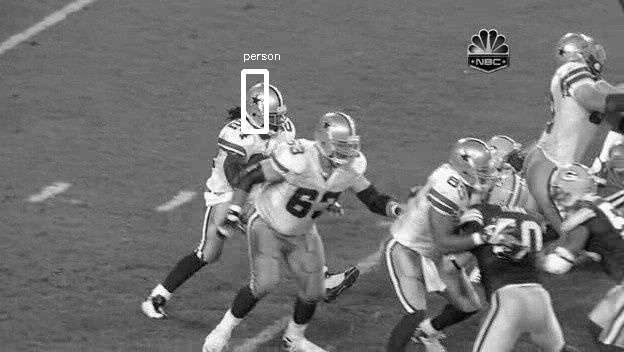person: (251, 84, 286, 129), (250, 84, 285, 129), (252, 84, 287, 129), (251, 83, 286, 128), (251, 85, 286, 130)
target_negative: (97, 281, 554, 322), (88, 211, 173, 299), (532, 240, 576, 319), (541, 76, 589, 127), (101, 339, 616, 340)
